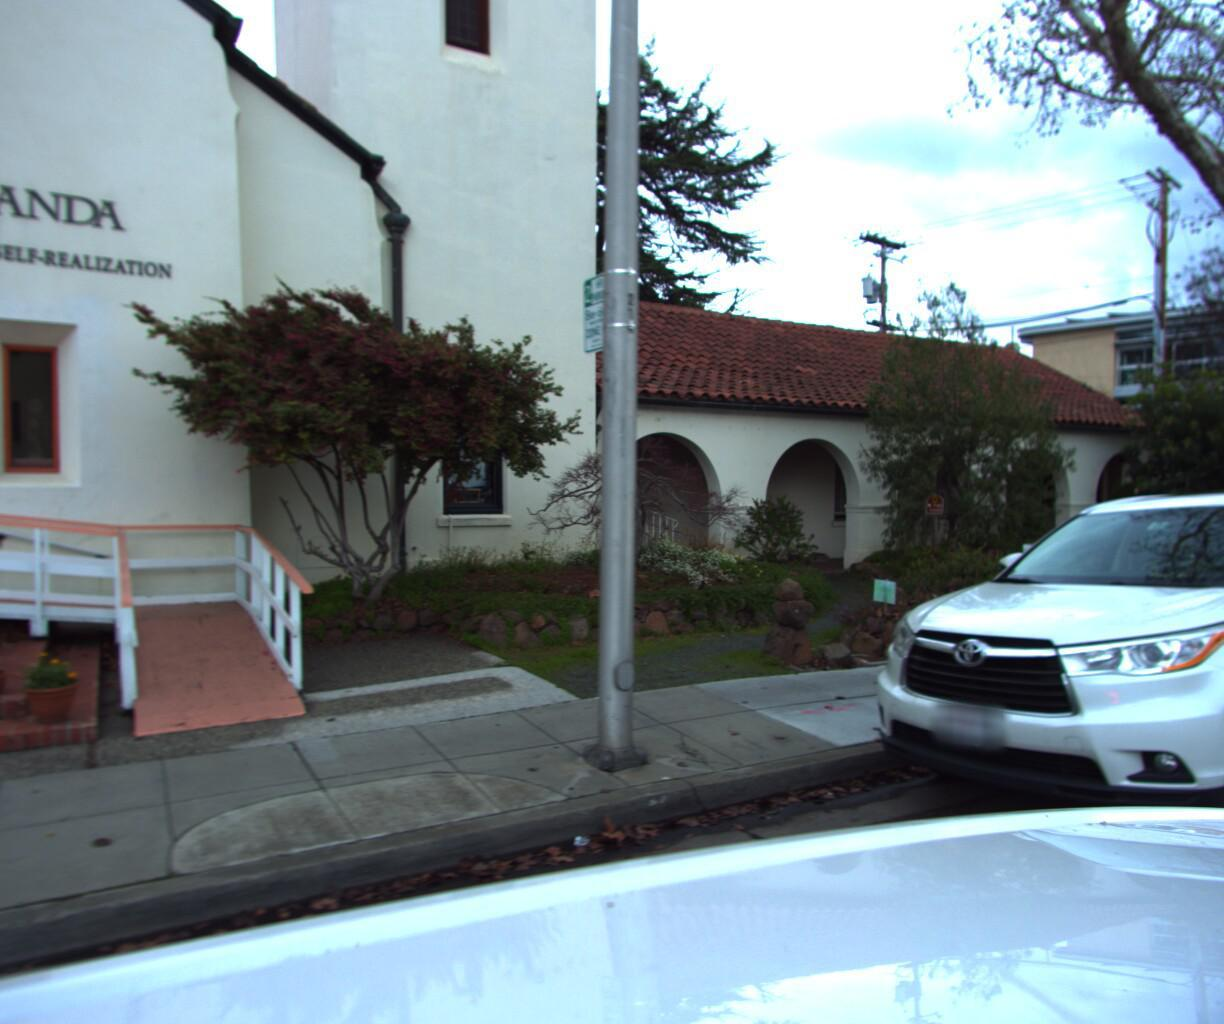car: (814, 448, 1224, 951)
